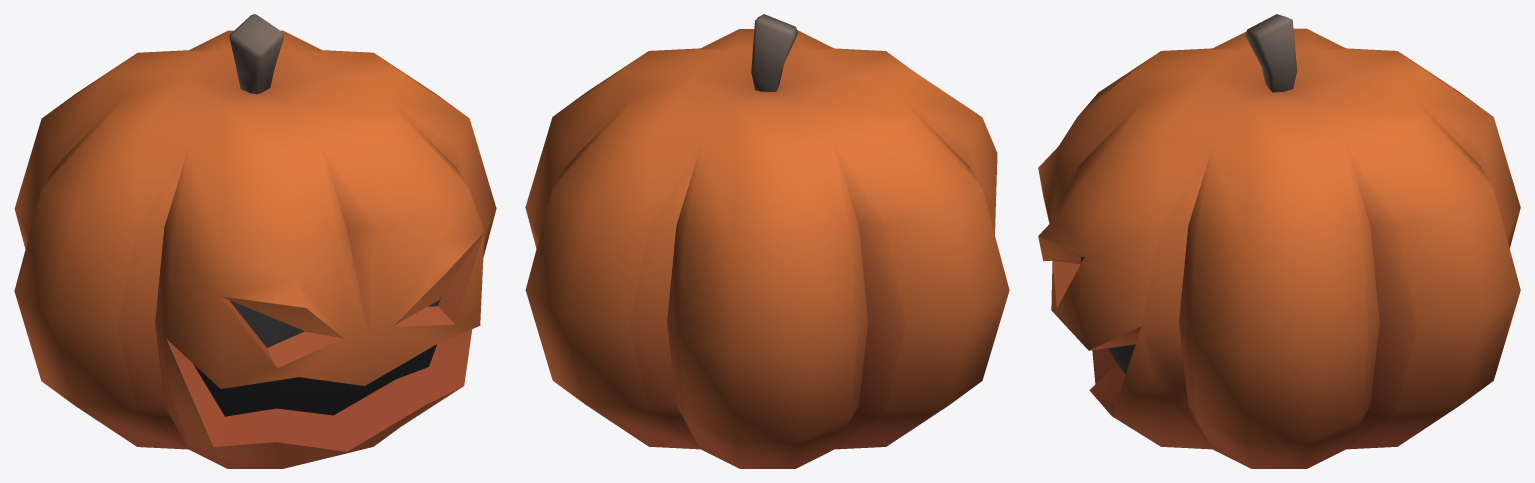
Rendered from pumpkin_orange_jackolantern.glb.
The picture shows the model from 3 angles, left to right: view 1: azimuth 30°, elevation 25°; view 2: azimuth 150°, elevation 25°; view 3: azimuth 270°, elevation 25°; orthographic projection.
Visible parts, largest first — view 1: pumpkin_orange_jackolantern; view 2: pumpkin_orange_jackolantern; view 3: pumpkin_orange_jackolantern.
Boxes of the visible parts, left/top/right/bottom form: pumpkin_orange_jackolantern: left=14, top=14, right=496, bottom=468; pumpkin_orange_jackolantern: left=525, top=14, right=1009, bottom=468; pumpkin_orange_jackolantern: left=1038, top=14, right=1520, bottom=468.
Size of the model in its own units: 1.5 by 1.3 by 1.4.
1 material, 1 textured.
